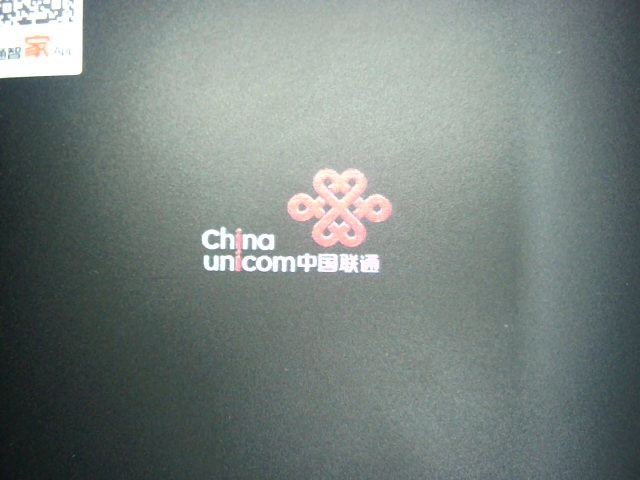AC_ChinaUnicom: (192, 167, 398, 277)
